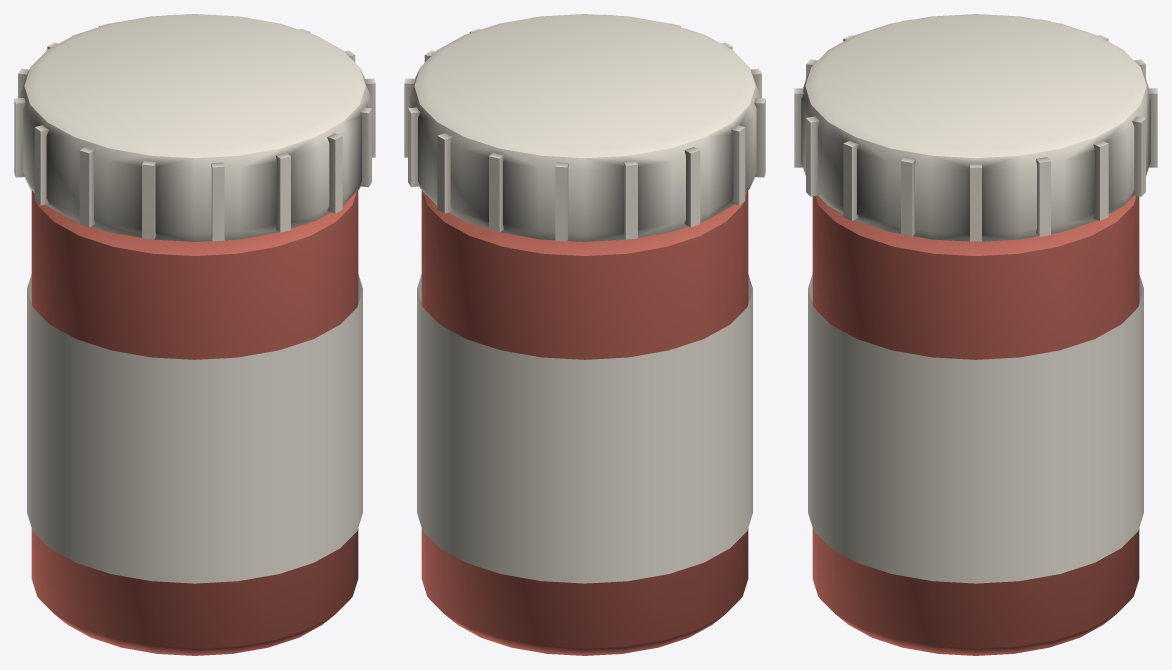
File: nd_pills.glb
3 views of the same model, side by side, from view 1: azimuth 30°, elevation 25°; view 2: azimuth 150°, elevation 25°; view 3: azimuth 270°, elevation 25° (orthographic).
Parts seen in each view (by area): view 1: PART; view 2: PART; view 3: PART.
Part boxes in pixels (x1,y1,x2,y2): PART: (14,14,375,655); PART: (404,14,765,655); PART: (794,14,1157,655).
Bounding box in the file's own units: 0.089 × 0.1385 × 0.089.
